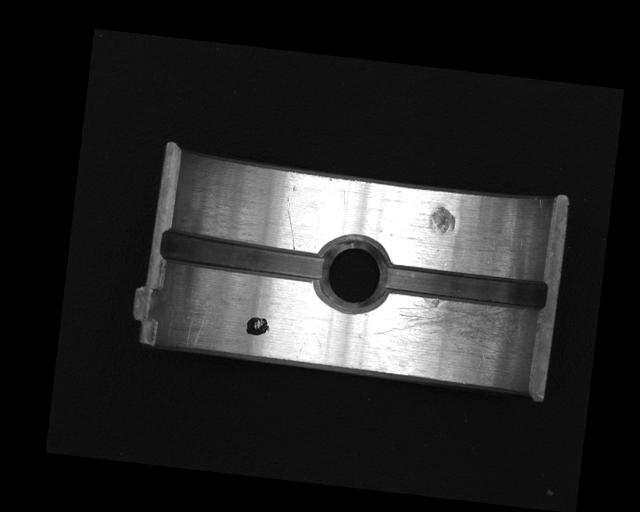blot: (244, 315, 270, 338)
bruise: (427, 204, 458, 237)
gap: (157, 226, 331, 284), (381, 260, 548, 312)
hole: (314, 231, 395, 316)
nick: (280, 196, 300, 250)
scratch: (371, 291, 537, 367)
